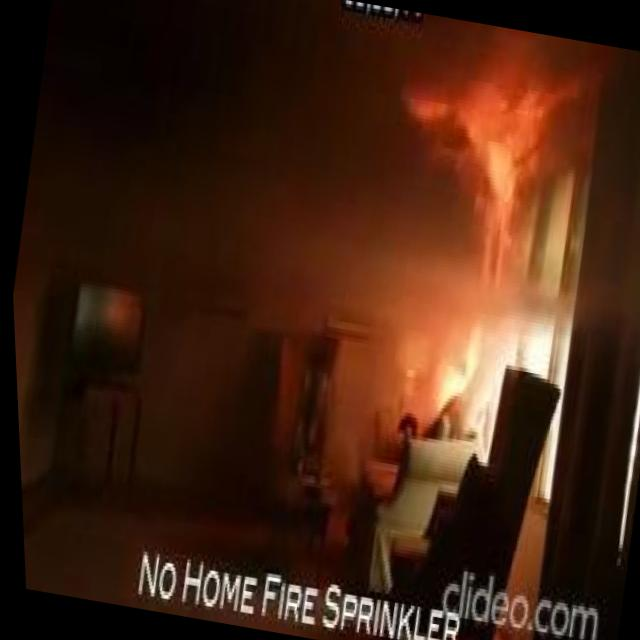fire: (429, 80, 542, 232), (423, 363, 468, 415), (456, 325, 492, 383)
